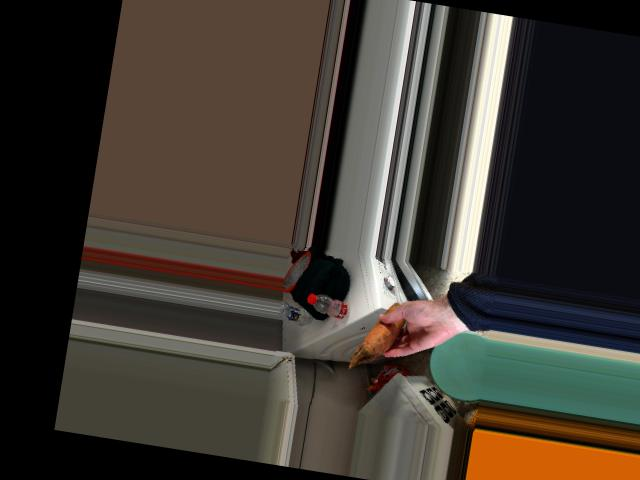sweet_potato: (360, 305, 412, 357)
